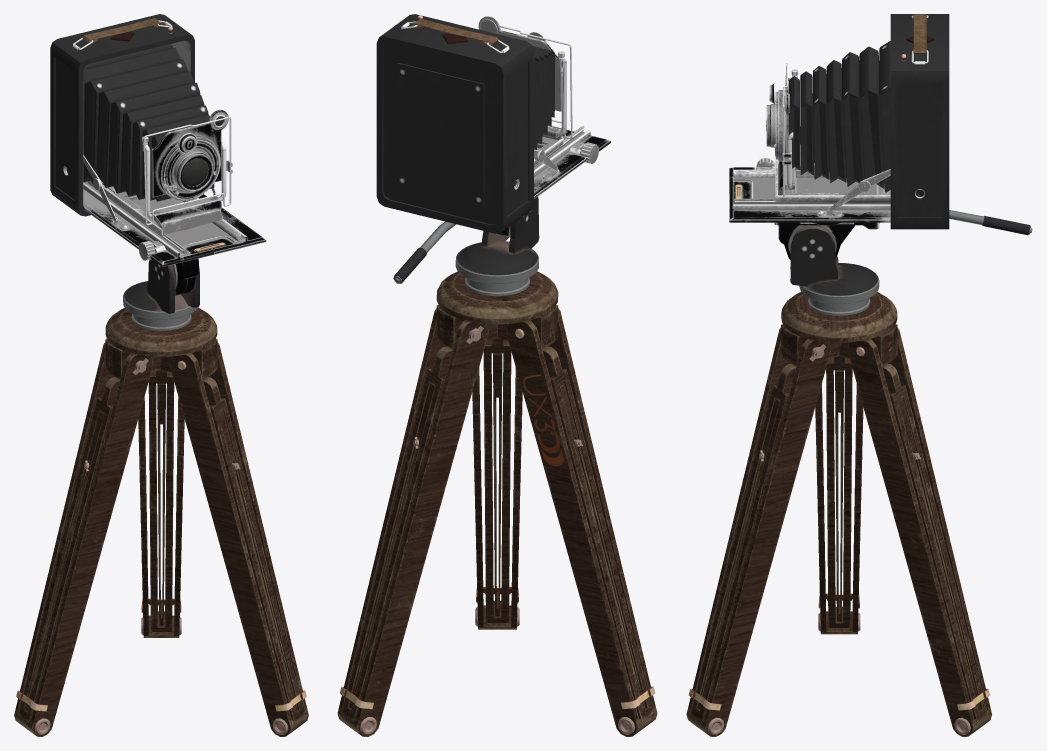
Rendered from camera.glb.
3 views of the same model, side by side, from view 1: azimuth 30°, elevation 25°; view 2: azimuth 150°, elevation 25°; view 3: azimuth 270°, elevation 25° (orthographic). The views are drawn at different scales.
Parts seen in each view (by area): view 1: tripod, camera; view 2: tripod, camera; view 3: tripod, camera.
Boxes of the visible parts, x1=… form: tripod: x1=14, y1=258, x2=308, y2=736; camera: x1=50, y1=14, x2=266, y2=266; tripod: x1=337, y1=196, x2=657, y2=736; camera: x1=376, y1=14, x2=610, y2=233; tripod: x1=686, y1=210, x2=1032, y2=736; camera: x1=729, y1=14, x2=949, y2=229.
Bounding box in the file's own units: 2.6 × 7.21 × 3.39.
2 materials, 2 textured.
